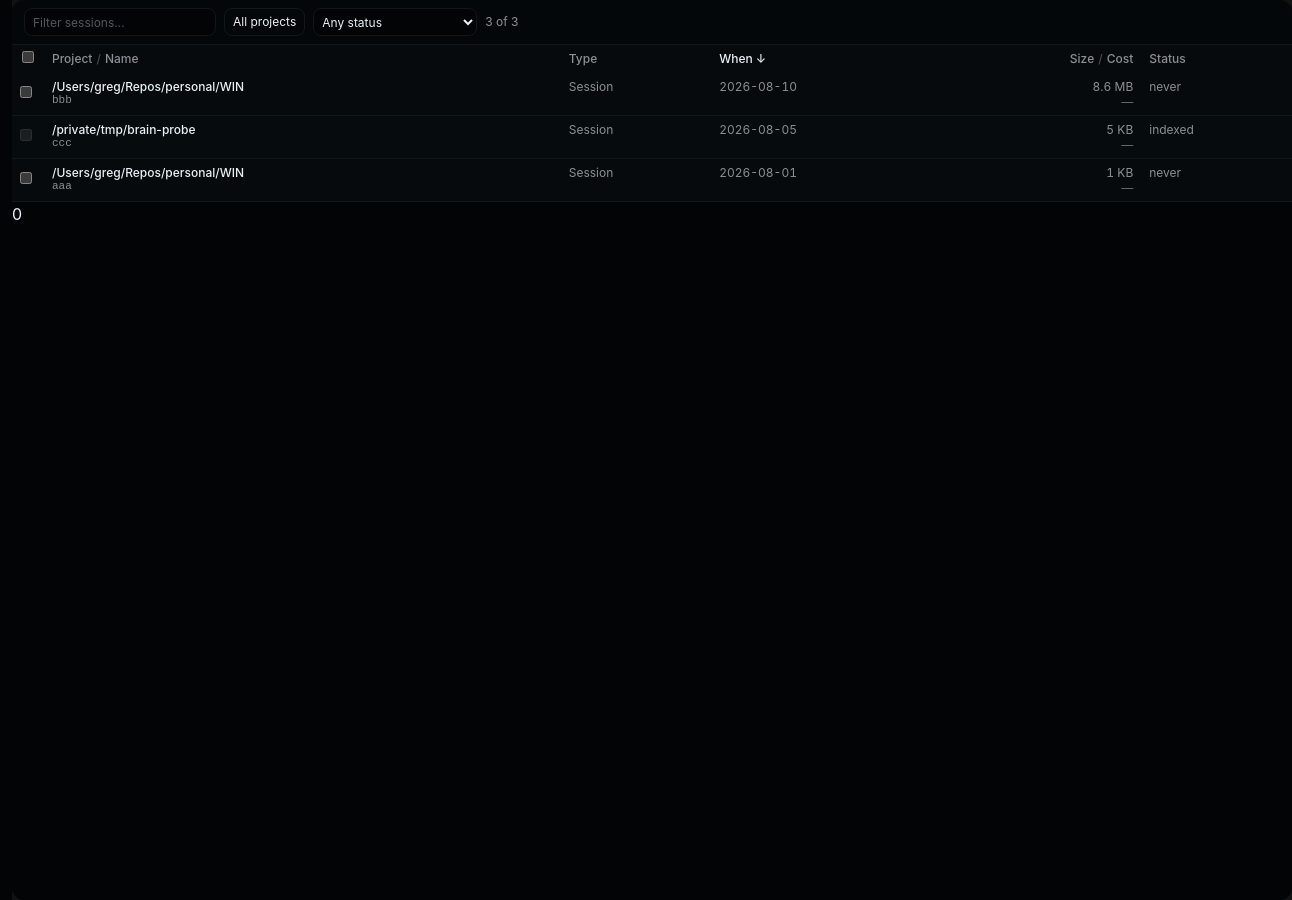
Test: BrainSourcesTable › select-all toggles off when everything shown is already selected
The width and height of the screenshot is (1292, 900).
Click the checkbox named "select all shown".
click(28, 57)  # box [22,51,34,63]
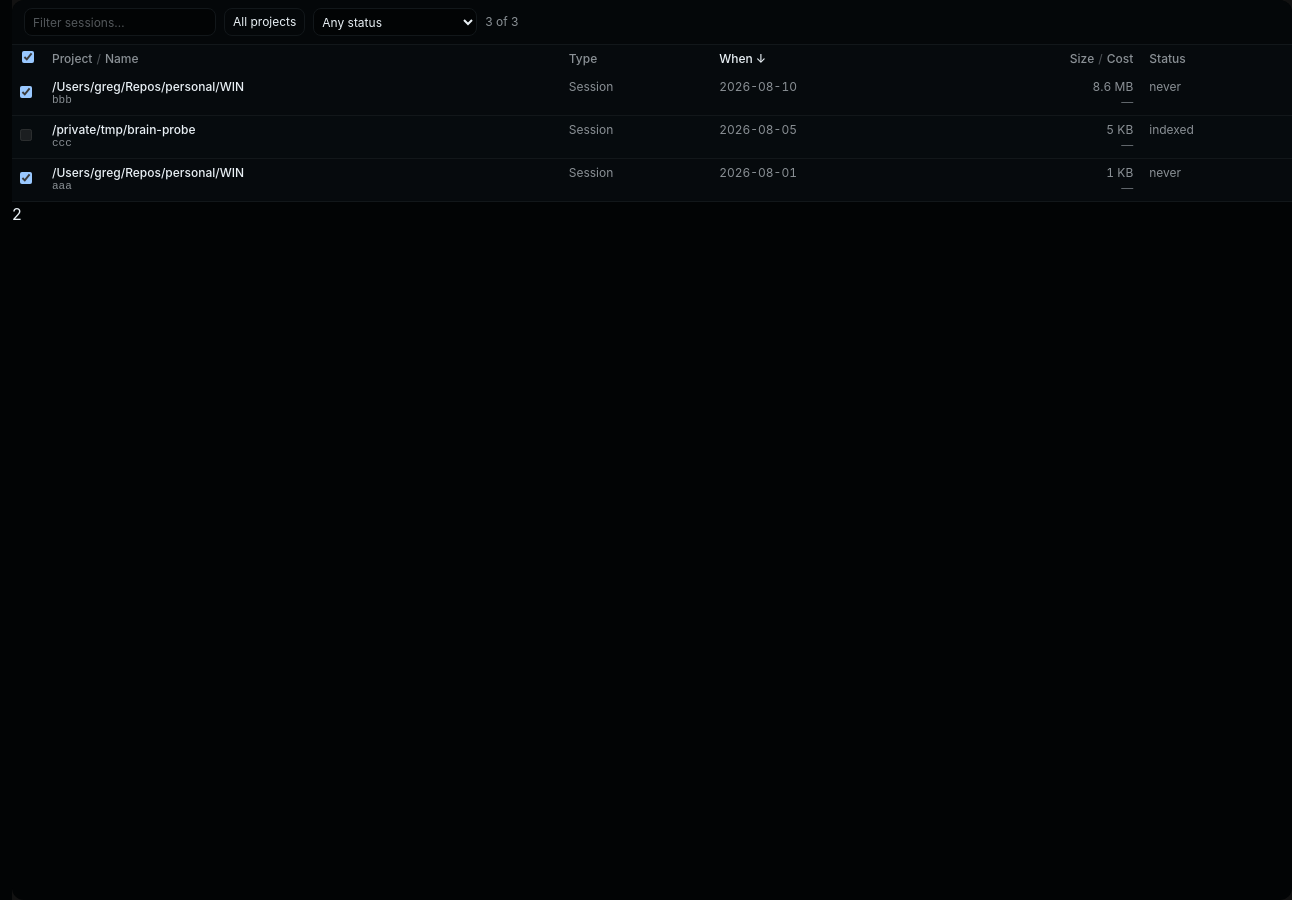
Now the text with test id "count" reads "2", box [12,204,22,224]
Click the checkbox named "select all shown".
click(28, 57)  # box [22,51,34,63]
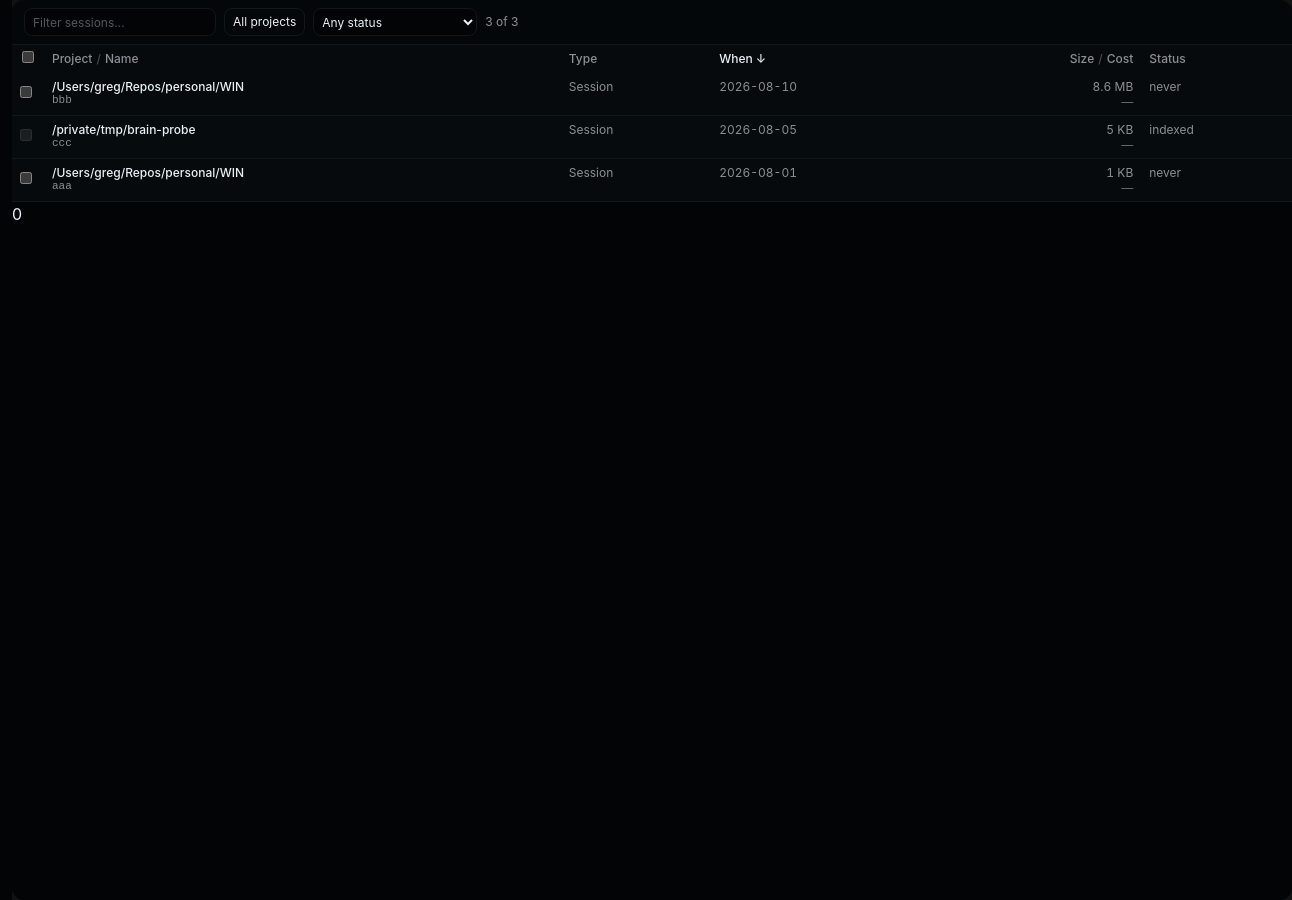
Now the text with test id "count" reads "0", box [12,204,22,224]
